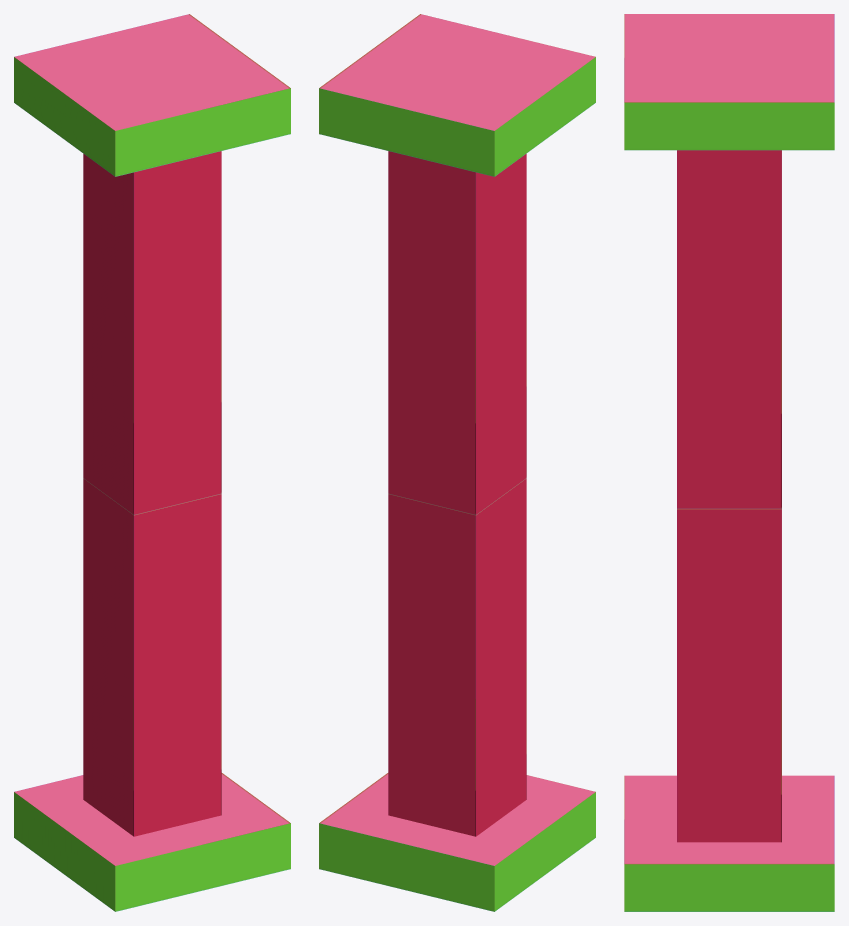
Rendered from MK_Pillar_D_Double.fbx.
The picture shows the model from 3 angles, left to right: view 1: azimuth 30°, elevation 25°; view 2: azimuth 150°, elevation 25°; view 3: azimuth 270°, elevation 25°; orthographic projection. The views are drawn at different scales.
Visible parts, largest first — view 1: Pillar_D_Double; view 2: Pillar_D_Double; view 3: Pillar_D_Double.
Boxes of the visible parts, x1=… form: Pillar_D_Double: x1=14, y1=14, x2=290, y2=911; Pillar_D_Double: x1=319, y1=14, x2=595, y2=911; Pillar_D_Double: x1=624, y1=14, x2=834, y2=911.
Bounding box in the file's own units: 90 × 382 × 90.
Materials: 1 (1 with a texture image).
